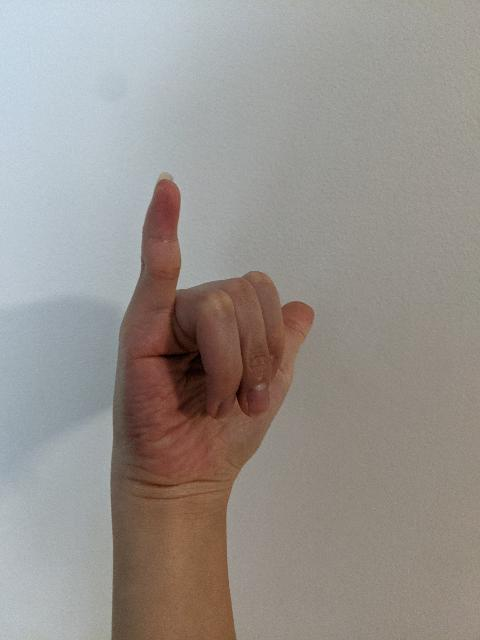Y: (104, 167, 322, 497)
